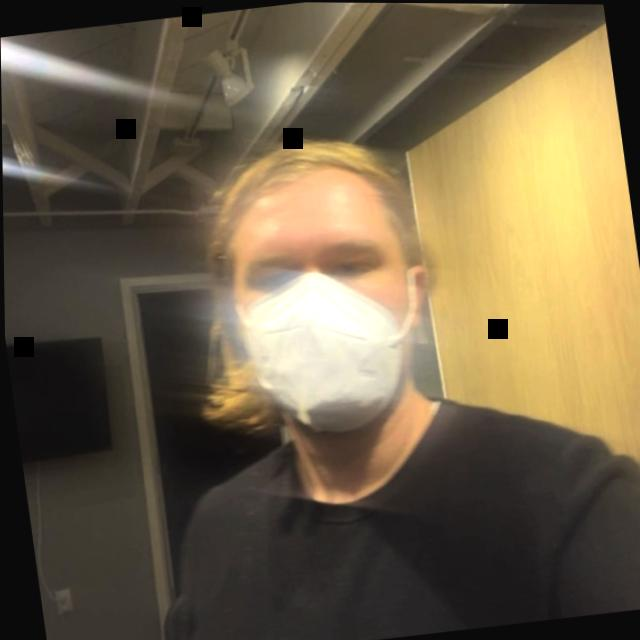Mask: (165, 100, 463, 449)
